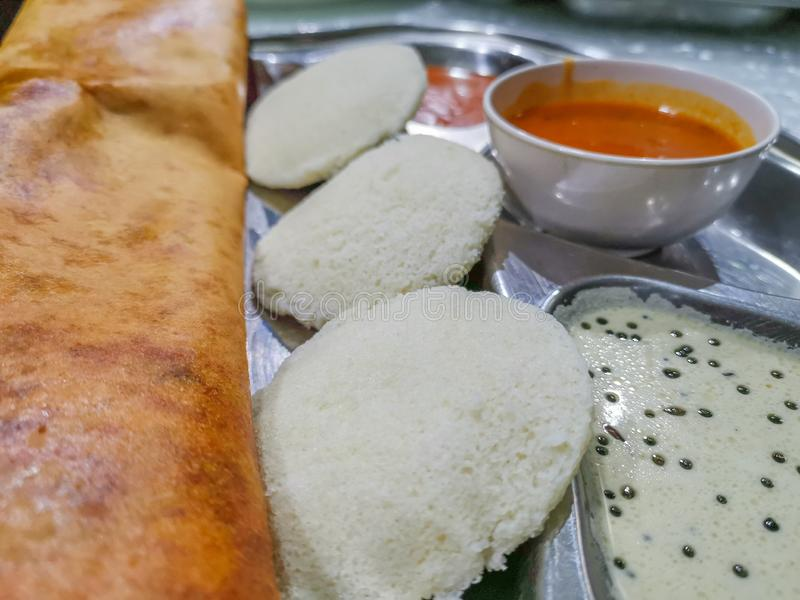dosa: (1, 2, 282, 600)
